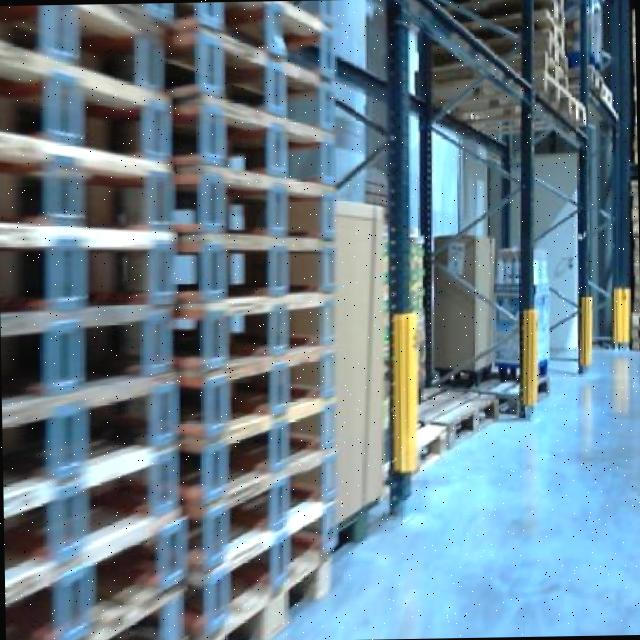pallet: (166, 434, 347, 594), (0, 123, 177, 267), (0, 353, 176, 491), (2, 432, 184, 550), (0, 216, 172, 331), (166, 90, 338, 178), (164, 170, 340, 237), (178, 232, 340, 301), (398, 382, 506, 469)
